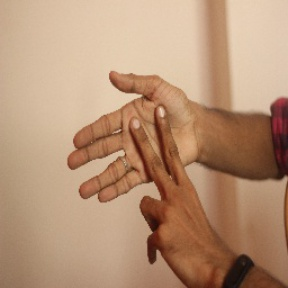N: (66, 68, 217, 270)
